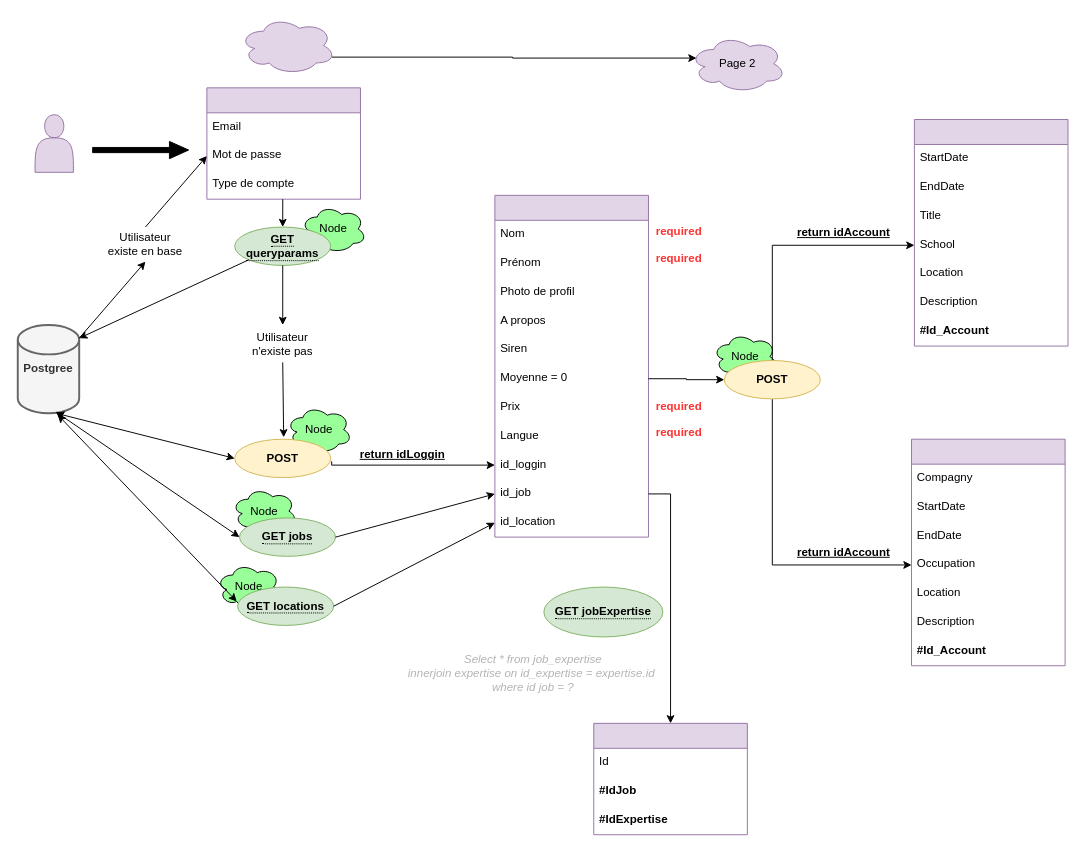
Image size: 1085x854. Some labels were removed from this diagram. Here are the shapes that lost their labels. From the top down, the box of each, then its label:
(239, 16, 336, 74): Page 1
(206, 87, 360, 199): Loggin
(913, 119, 1068, 346): Graduation
(494, 194, 648, 537): Account
(911, 438, 1065, 666): Experience
(593, 722, 747, 835): Job_Expertise
